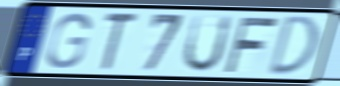7: (144, 12, 186, 74)
D: (265, 14, 320, 78)
F: (222, 15, 282, 75)
G: (44, 11, 93, 71)
T: (97, 10, 141, 73)
U: (180, 13, 235, 75)
